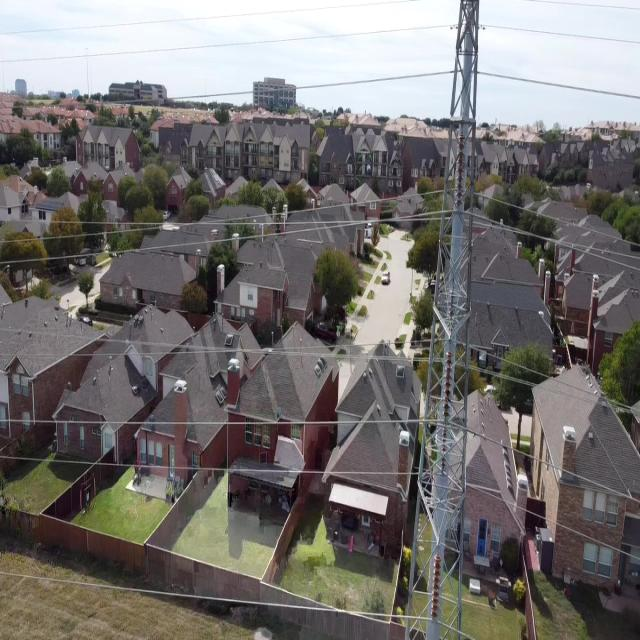杆塔: (397, 0, 489, 640)
正常绝缘子: (439, 339, 454, 427), (453, 121, 468, 208), (430, 545, 443, 622)
